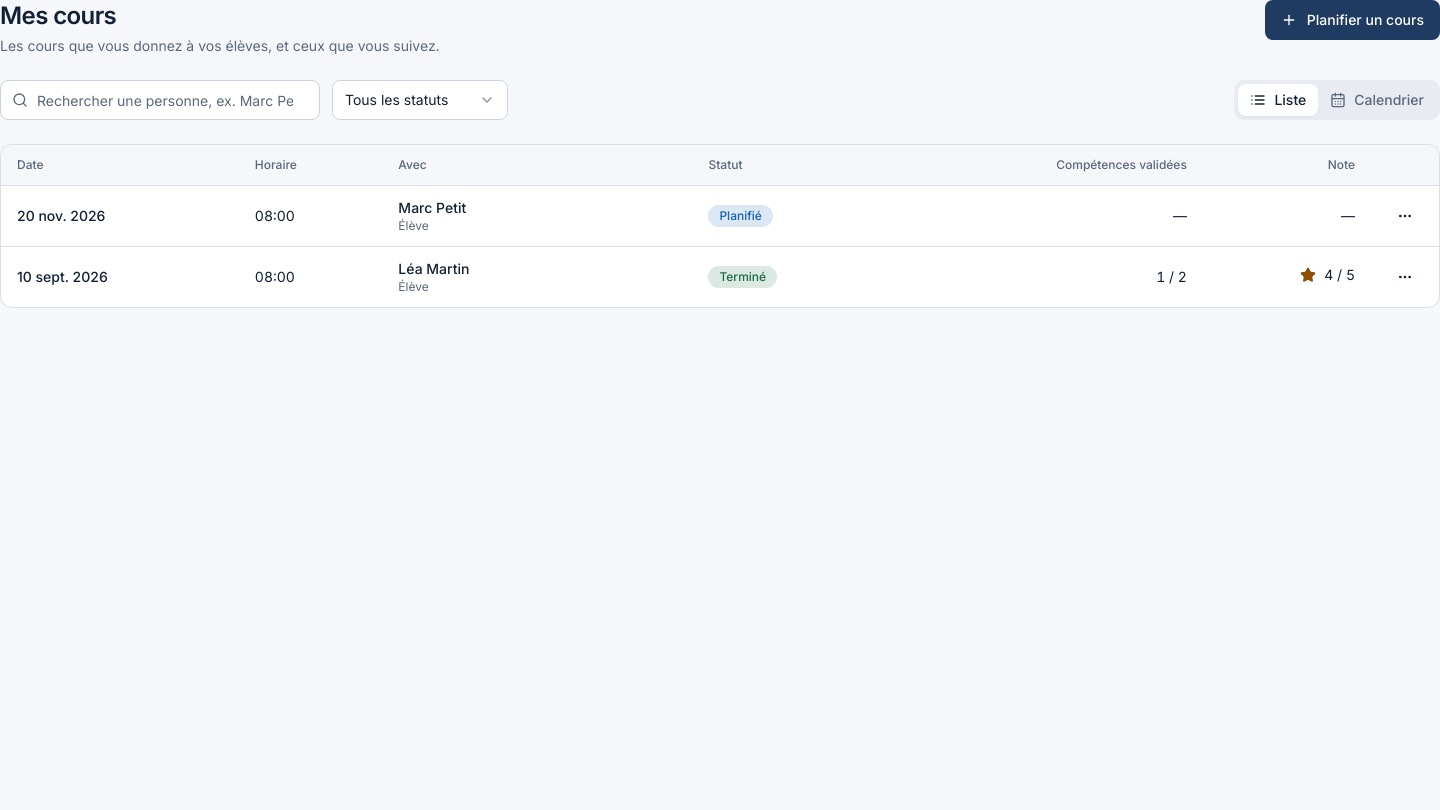
Mes cours — instructeur › un cours dont l'avion est réservé › ne propose pas d'annuler une réservation dont le vol a commencé, et dit pourquoi
The width and height of the screenshot is (1440, 810).
Check: the table is shown, box [1,145,1439,306]
Click the button named "Actions du cours" in the row of "20 nov. 2026": coordinates (1405, 216) [1387,198,1423,234]
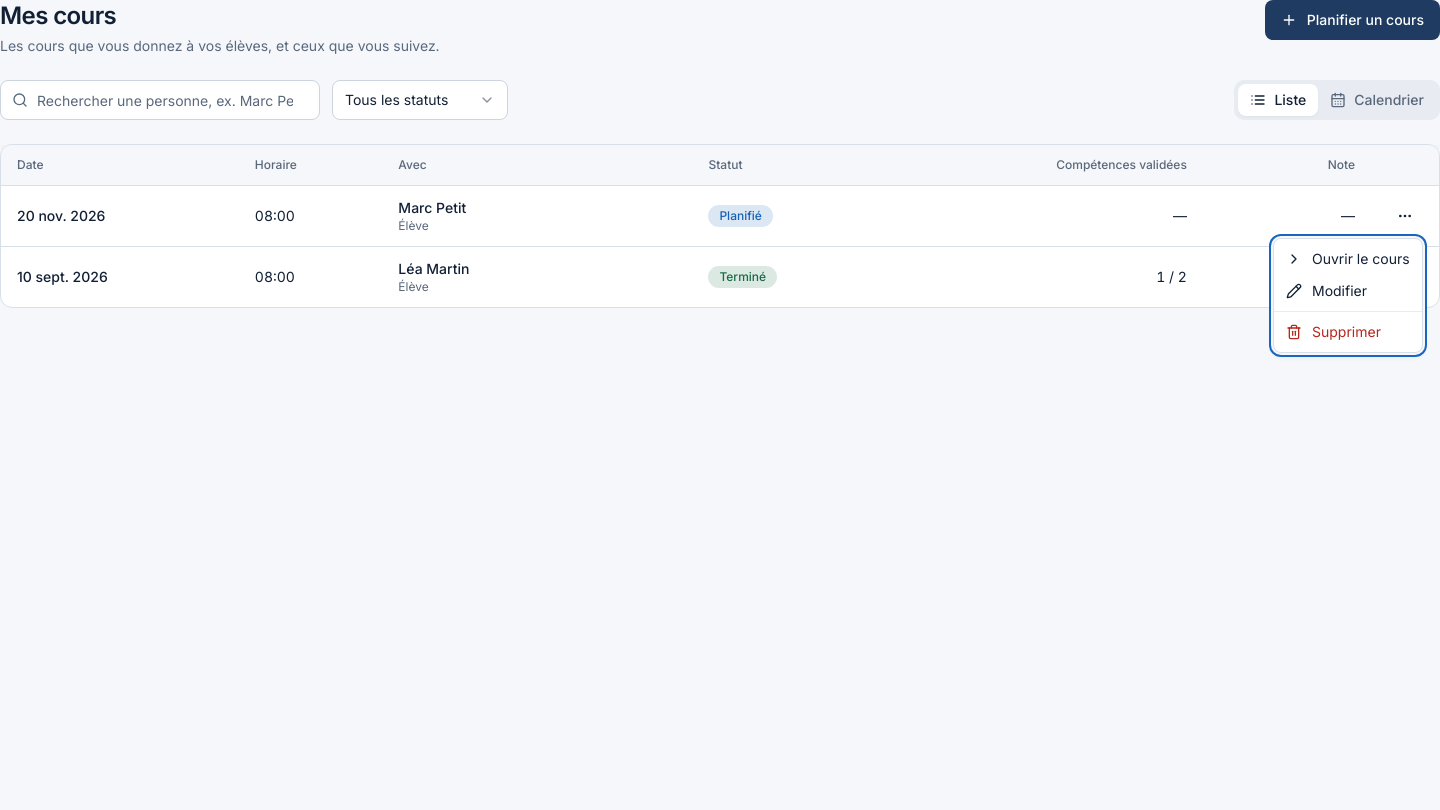
Click the menu item "Supprimer": coordinates (1333, 332) [1286,323,1381,340]
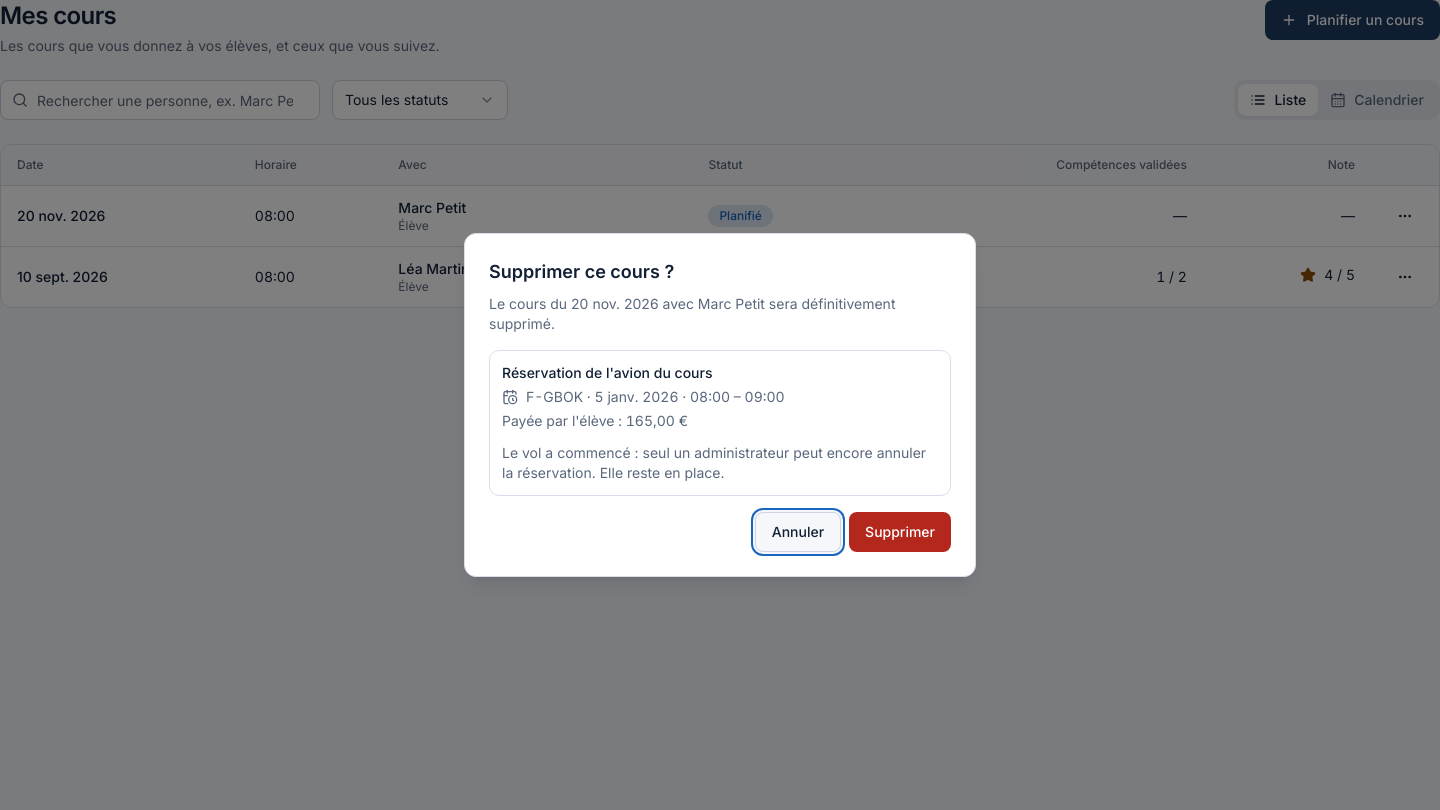
Check: the text "Le vol a commencé : seul un administrateur peut encore annuler la réservation" is shown, box [502,444,926,481]
